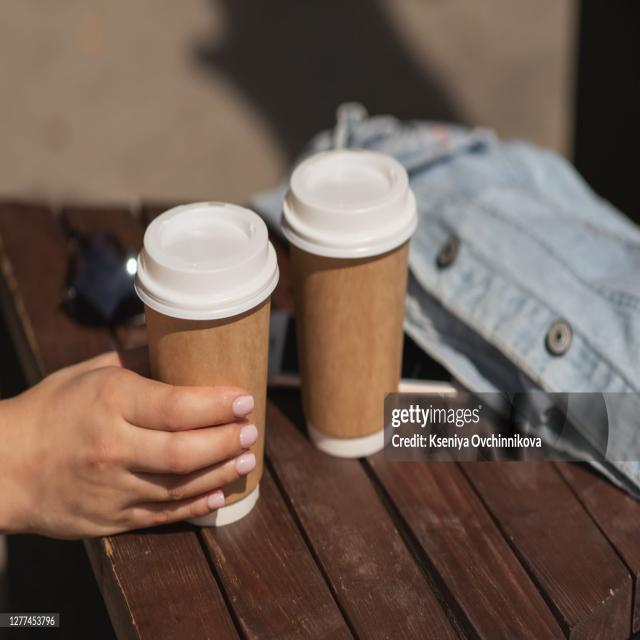cup: (134, 201, 282, 526), (280, 150, 418, 460)
